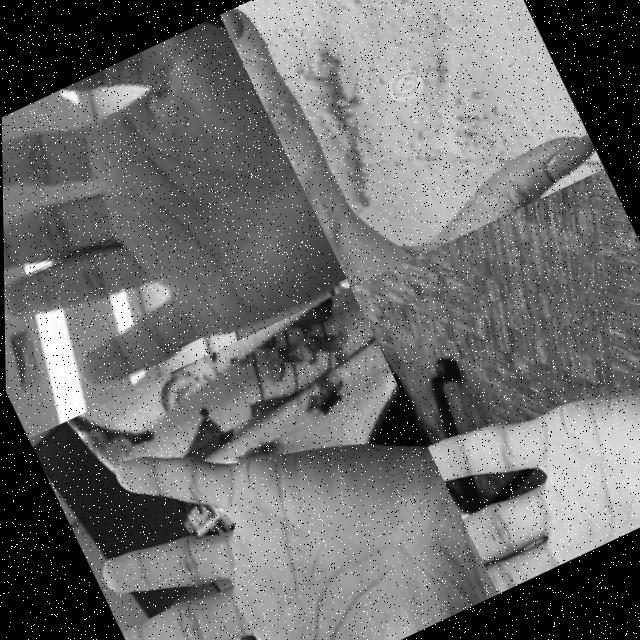hand: (0, 14, 350, 431), (48, 334, 496, 640), (219, 0, 605, 286), (400, 276, 640, 594)
